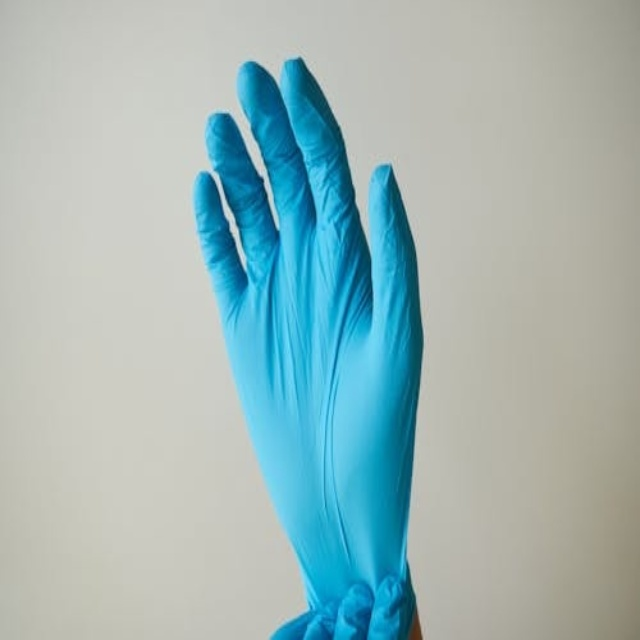Guantes: (194, 49, 426, 640)
